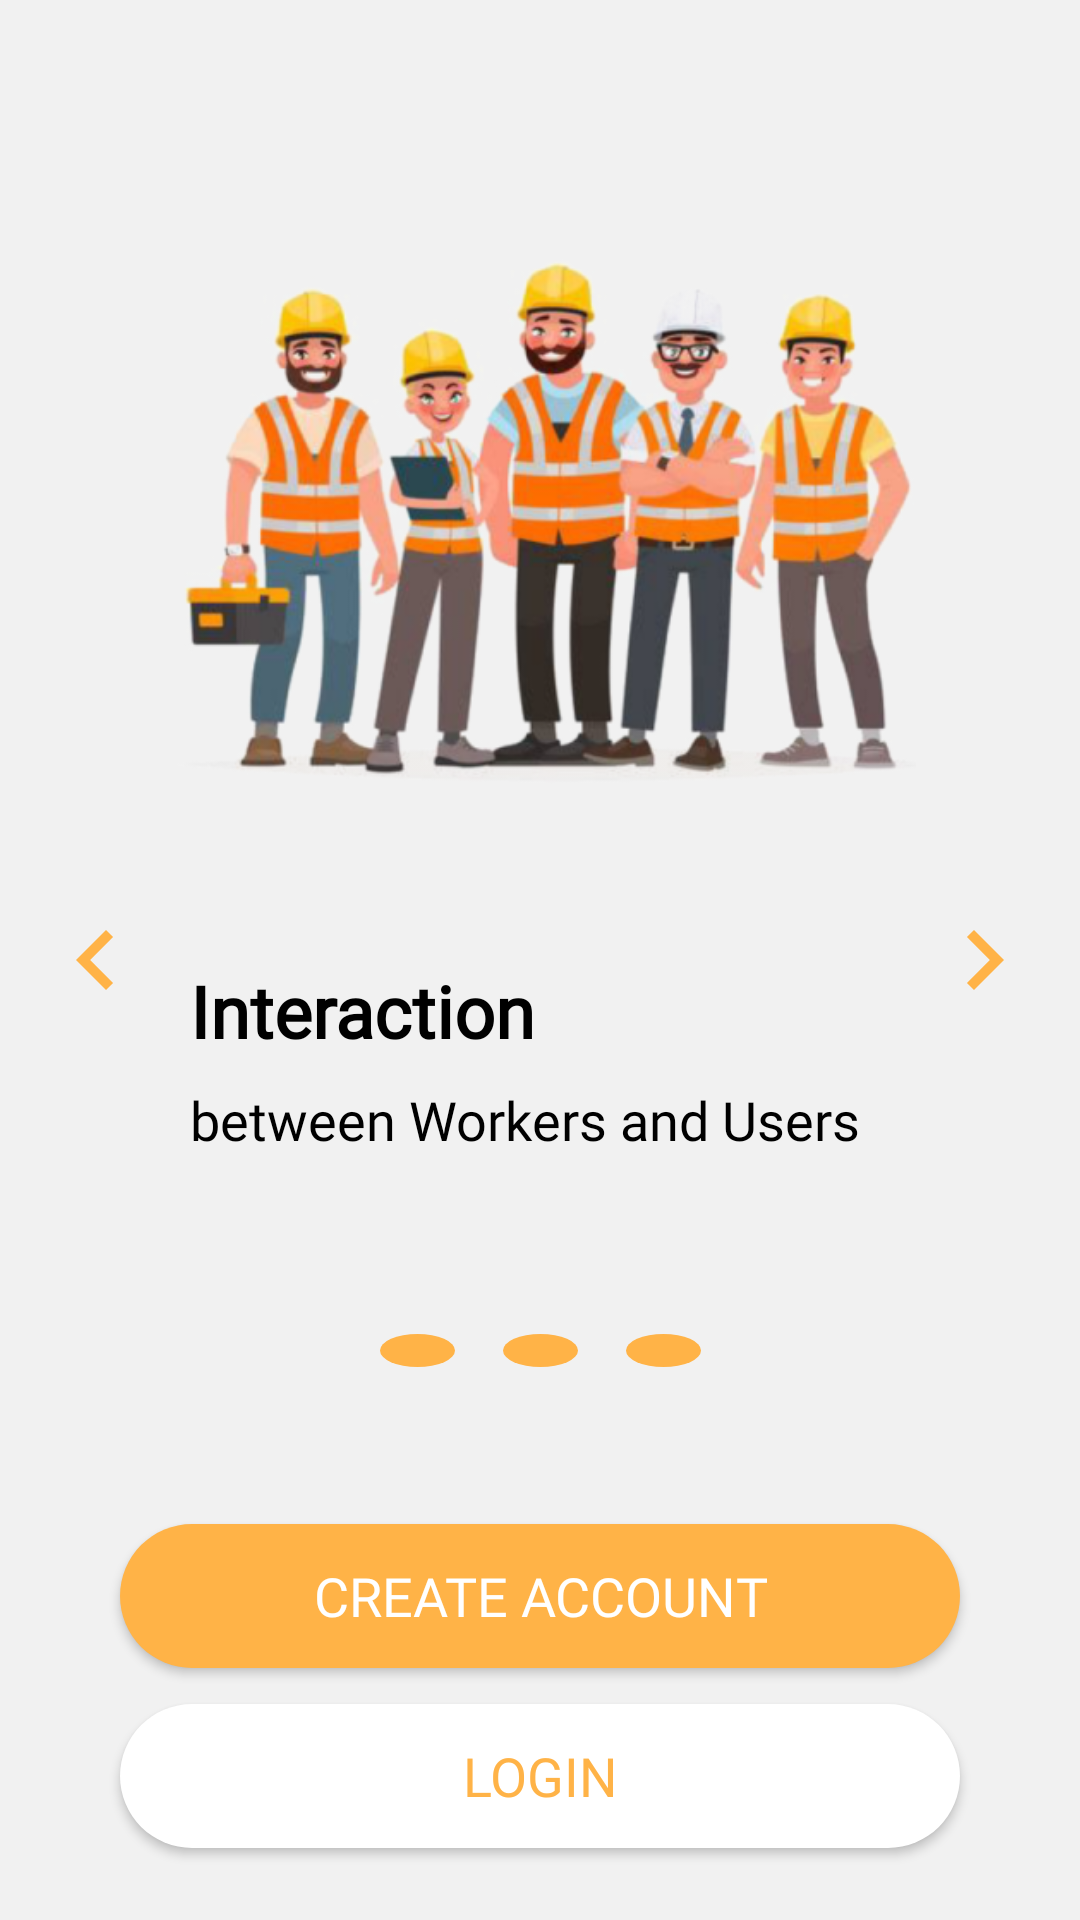

Icon bounding boxes for this 1080x1920 phone screenshot, format [x1=x1, y1=y1, x2=x2, y2=y2]:
next: [x1=967, y1=930, x2=1004, y2=990]
prev: [x1=76, y1=930, x2=113, y2=990]
